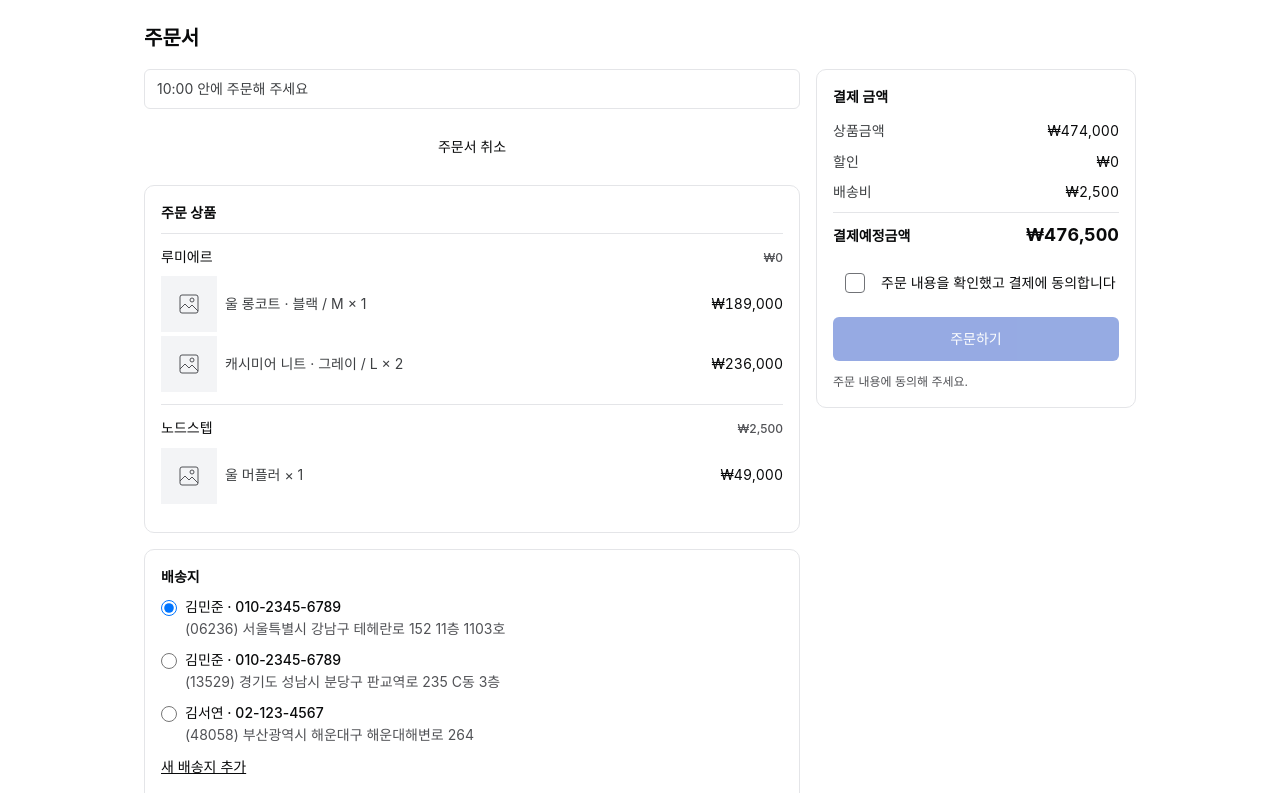
Test: 거절 (F2) › tells a lost request apart from a refusal
Expected: the element "주문 상품" is shown, [144,185,800,533]
What coordinates should you click on to do the following:
click the checkbox named "주문 내용을 확인했고 결제에 동의합니다"
I would click on:
 (855, 283)
Its box is [833,261,877,305].
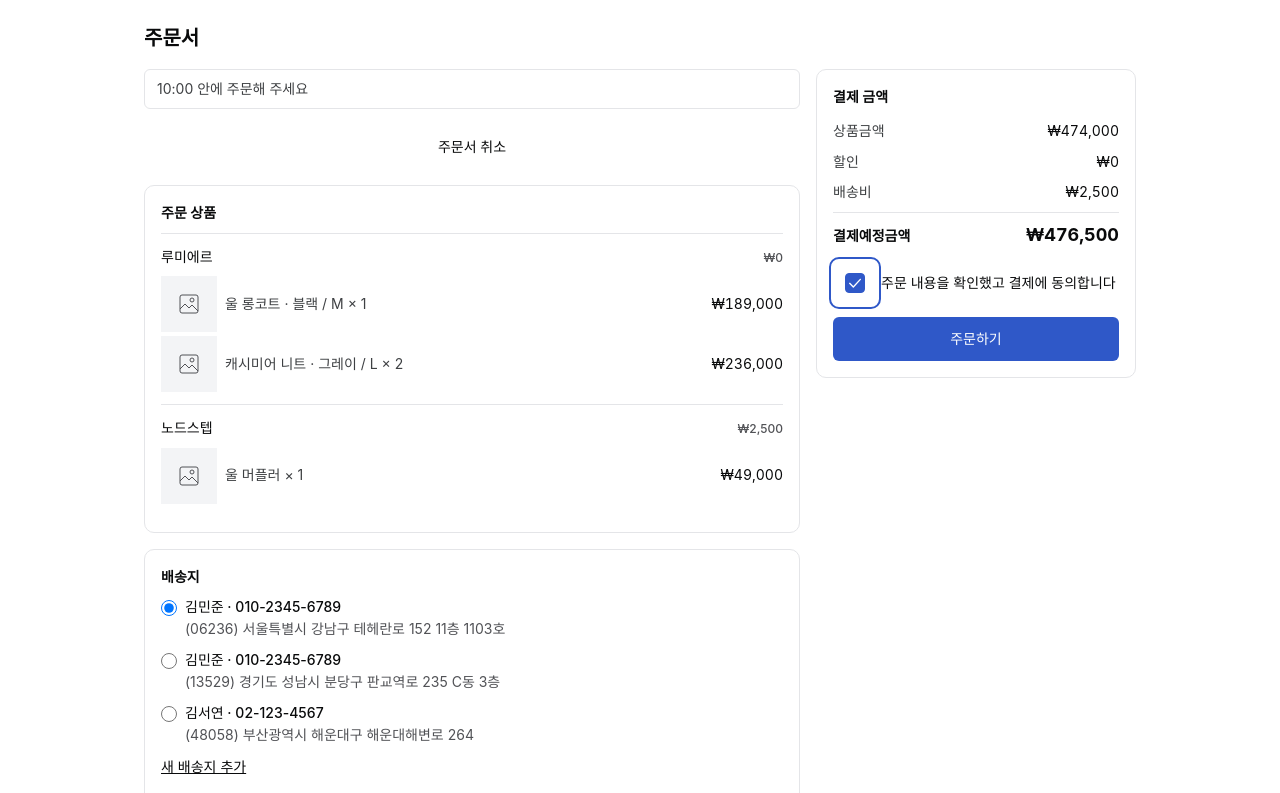
What coordinates should you click on to do the following:
click the button "주문하기"
I would click on:
 (976, 339)
Its box is [833,317,1119,361].
(page scrolled)
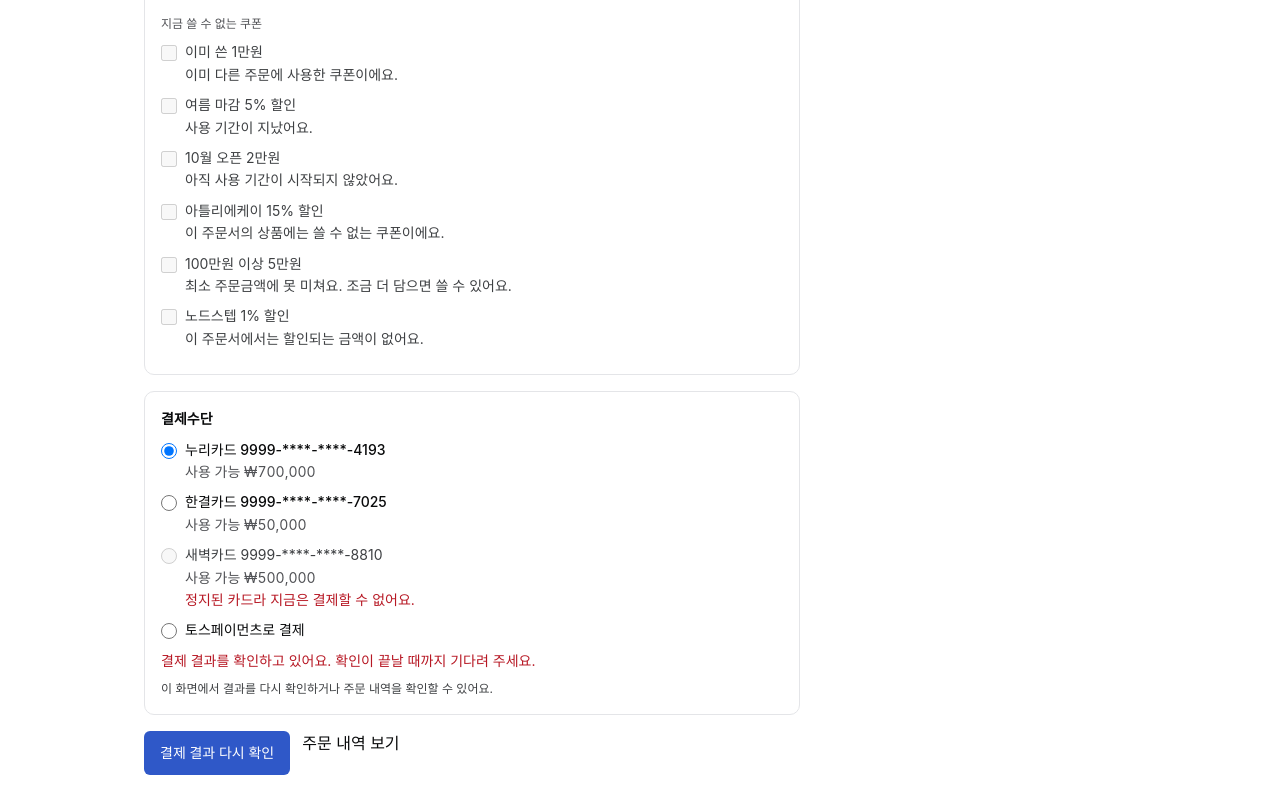
Now the text "결제 결과를 확인하고 있어요. 확인이 끝날 때까지 기다려 주세요." is shown, box [161,652,536,669]
